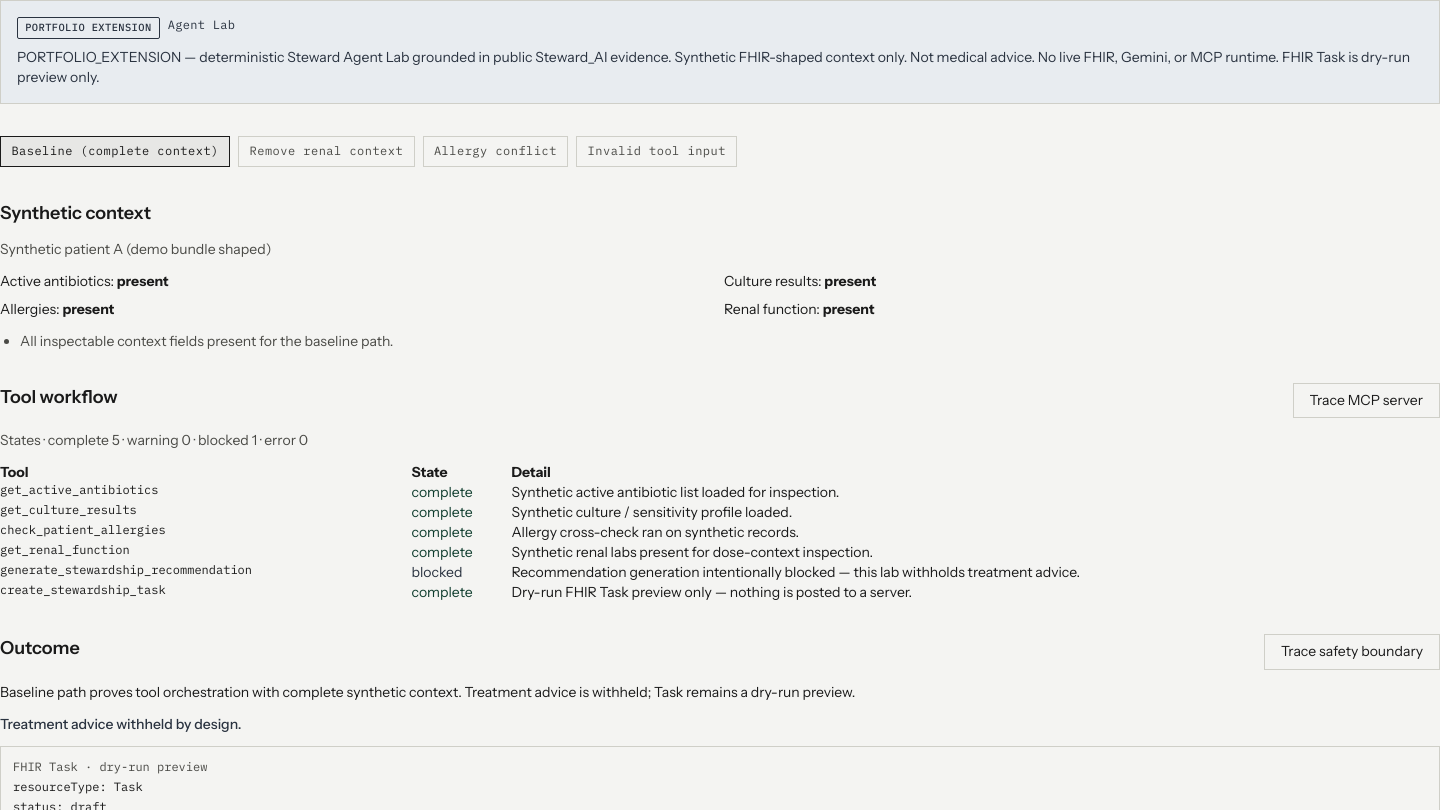
Test: StewardLab (M12) › opens Source Trace for MCP server with SHA fingerprint
Click the button "Trace MCP server".
click(1366, 401)  # box [1293,383,1439,418]
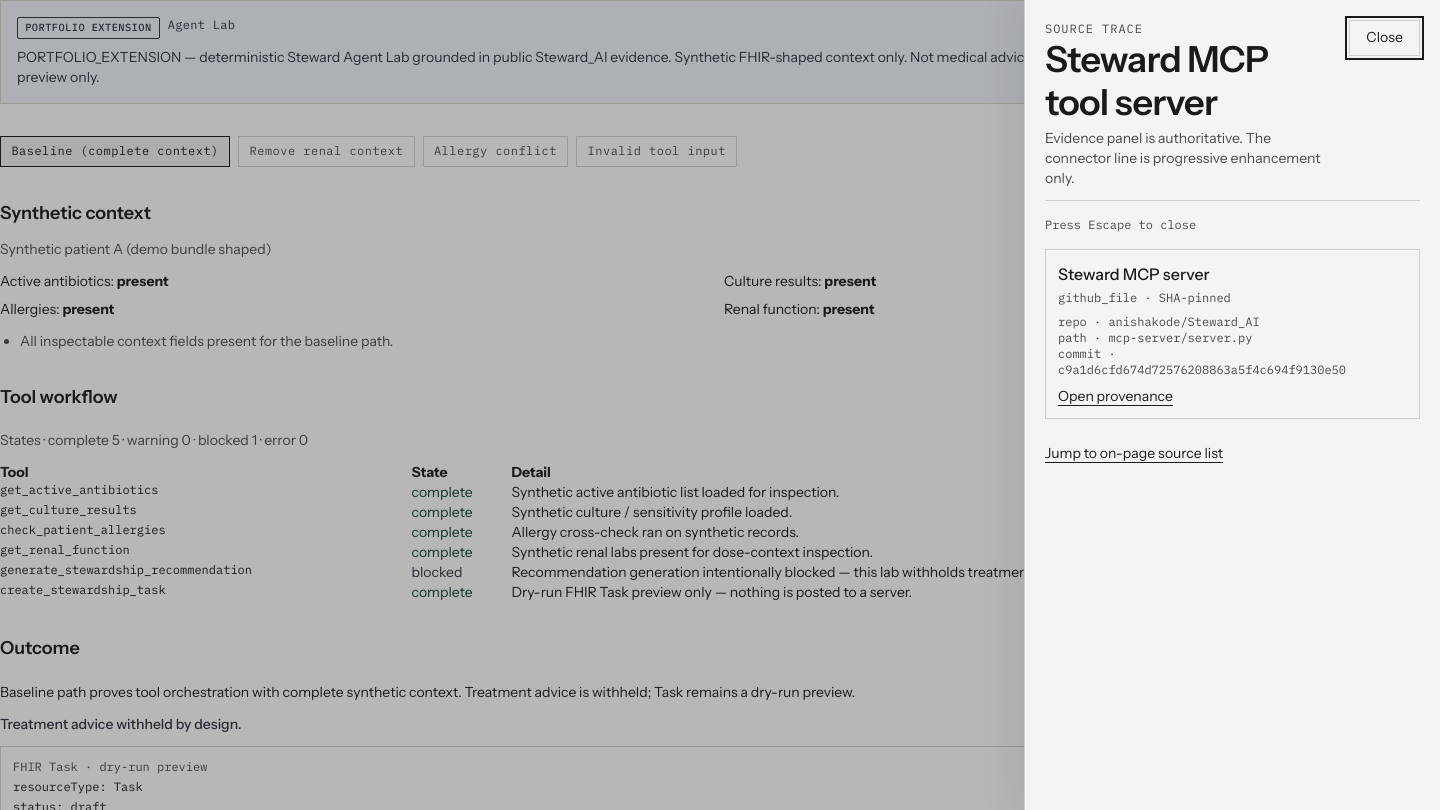
Expected: the dialog is shown, [1024,0,1439,809]
Expected: the text "path · mcp-server/server.py" is shown, [1058,330,1252,345]
Expected: the text "commit · c9a1d6cfd674d72576208863a5f4c694f9130e50" is shown, [1058,346,1346,377]
